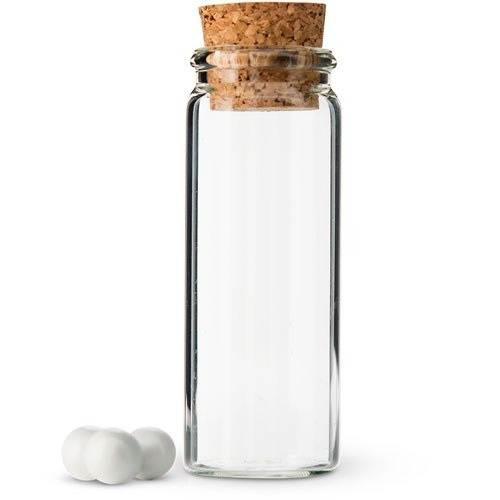container: (179, 0, 348, 489)
